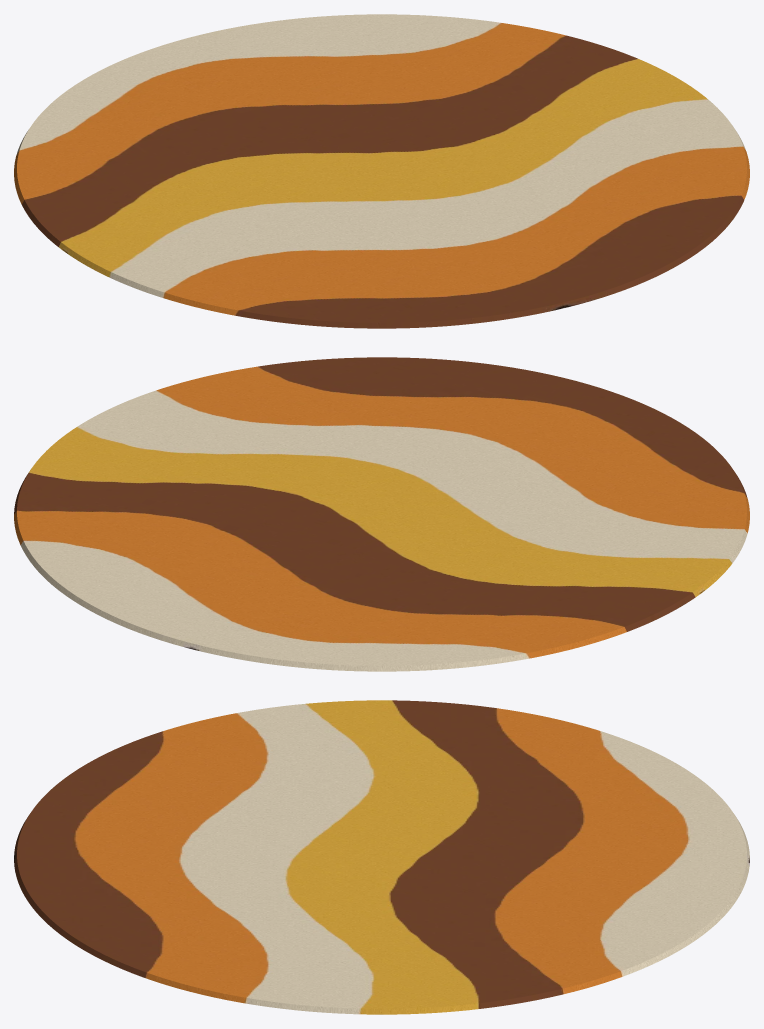
Rendered from rug-round-waves.glb.
The picture shows the model from 3 angles, top to bottom: view 1: azimuth 30°, elevation 25°; view 2: azimuth 150°, elevation 25°; view 3: azimuth 270°, elevation 25°; orthographic projection.
Visible parts, largest first — view 1: rug-round-waves; view 2: rug-round-waves; view 3: rug-round-waves.
Part boxes in pixels (x1,y1,x2,y2): rug-round-waves: (14, 14, 749, 328); rug-round-waves: (14, 357, 749, 671); rug-round-waves: (14, 700, 749, 1014).
Size of the model in its own units: 1.5 by 0.0101 by 1.5.
1 material, 1 textured.
